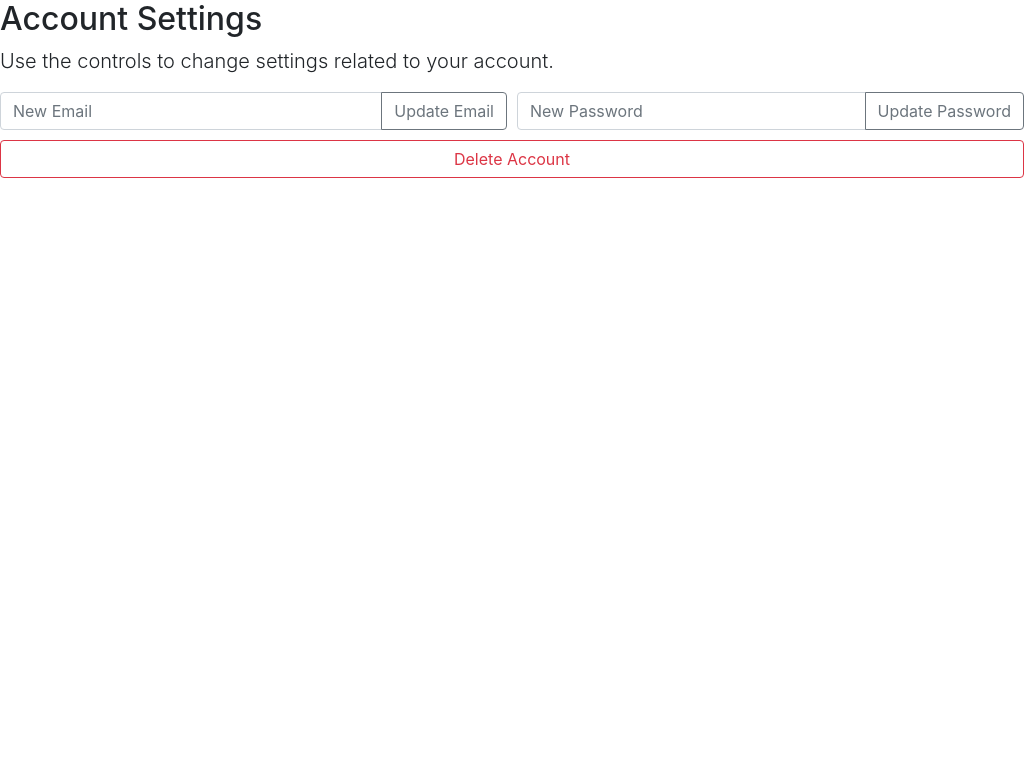
updates email
Type "test2@example.com" into the field with placeholder "New Email".
click(191, 111); type("test2@example.com")  # box top-left (0, 92), bottom-right (382, 130)
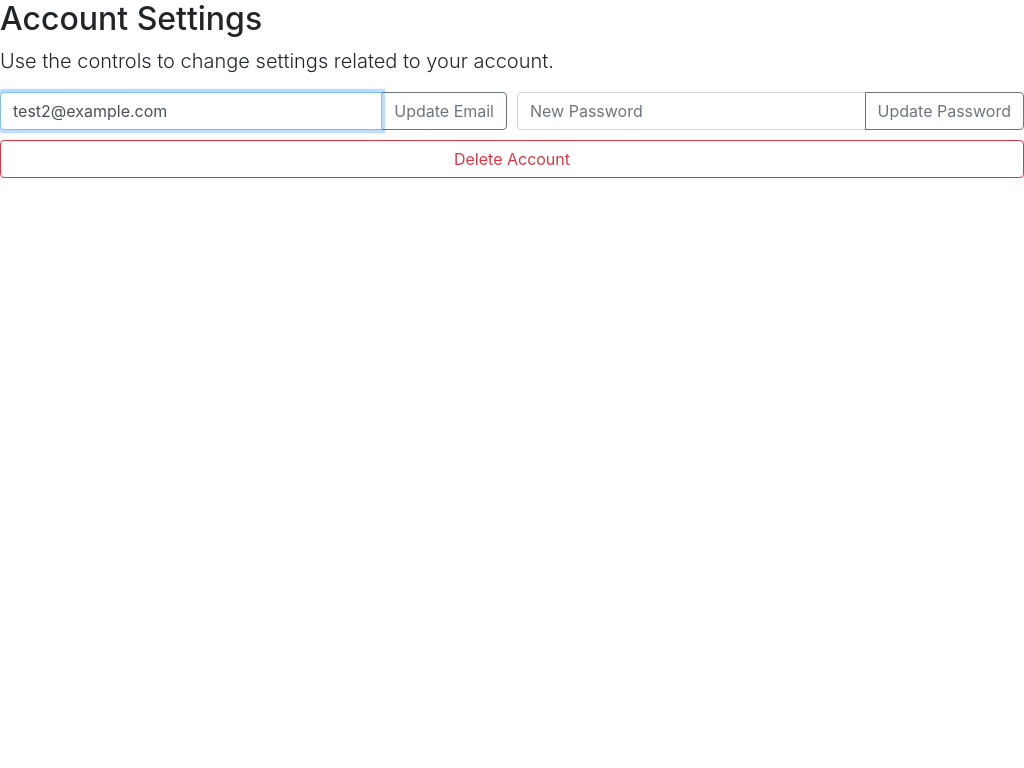
Click the button "Update Email".
click(444, 111)  # box top-left (381, 92), bottom-right (507, 130)
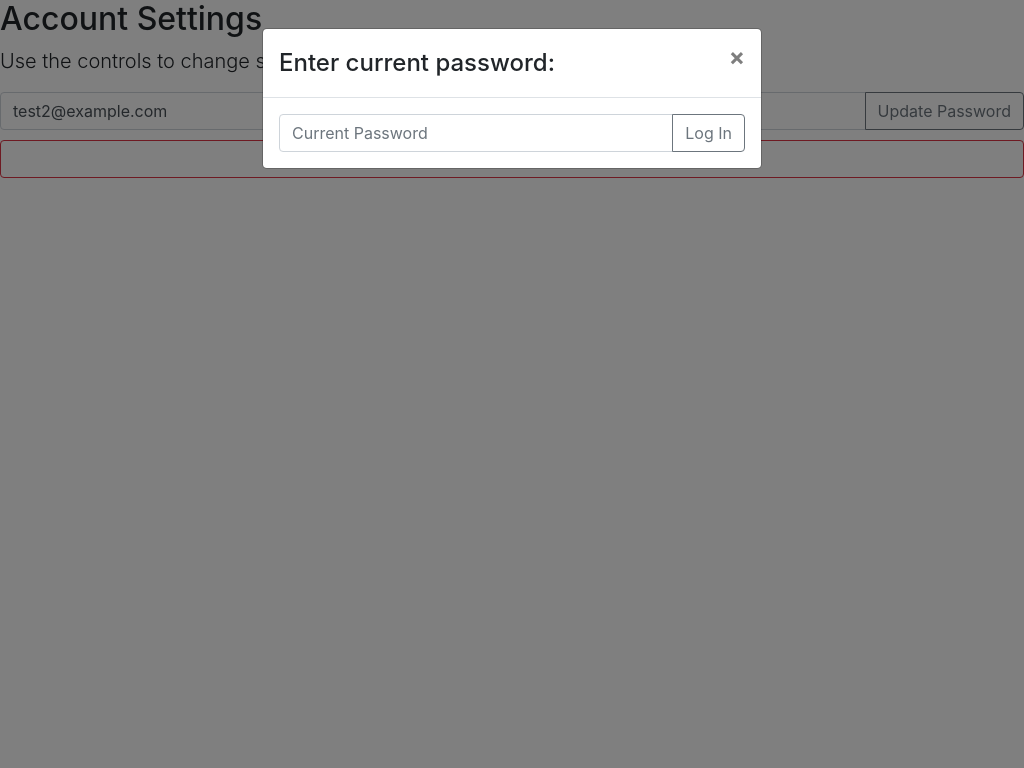
Type "password" into the password field with placeholder "Current Password".
click(476, 133); type("password")  # box top-left (279, 114), bottom-right (673, 152)
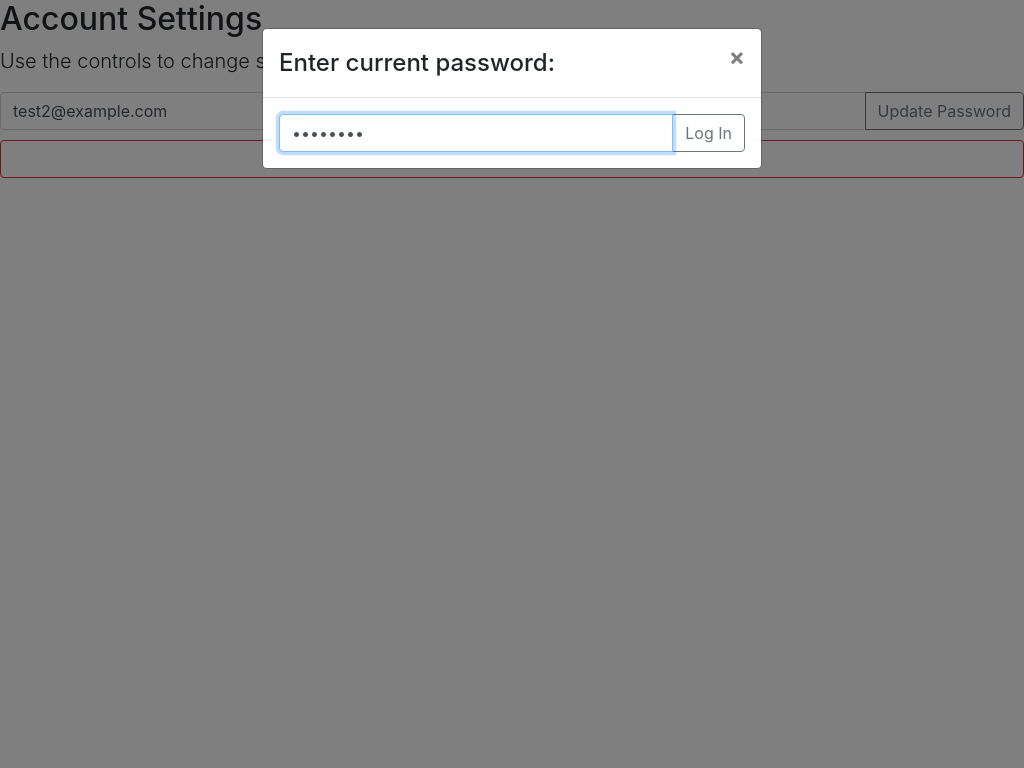
Click the button "Log In".
click(709, 133)  # box top-left (672, 114), bottom-right (745, 152)
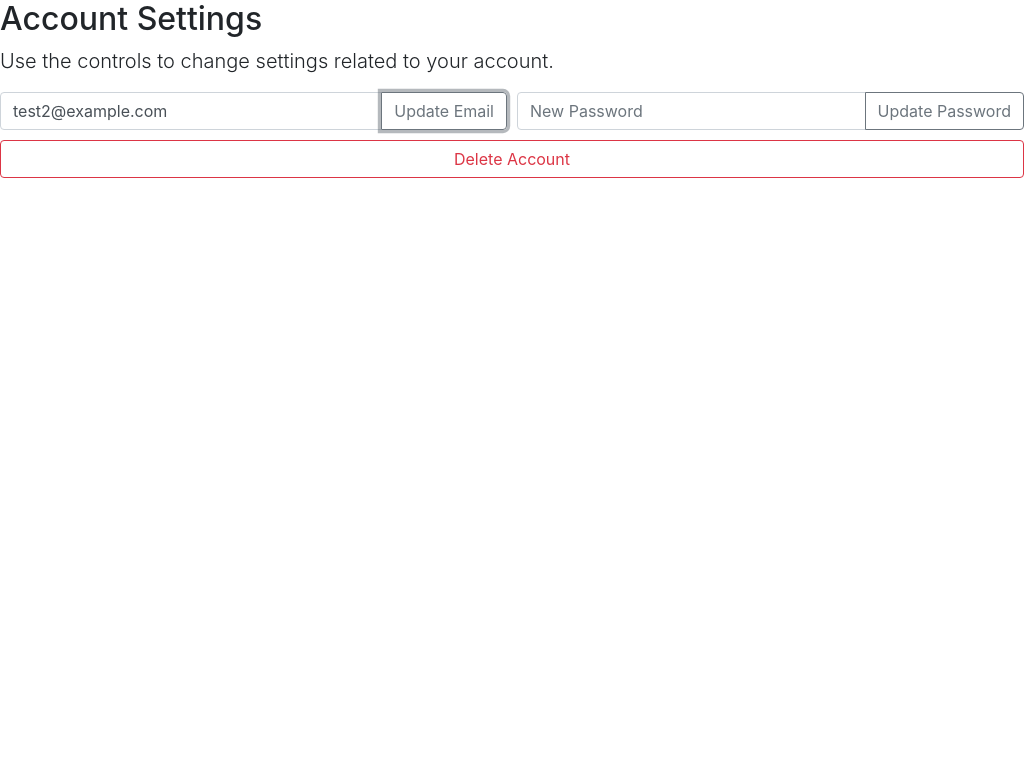
Expected: the text with placeholder "current password" is gone
